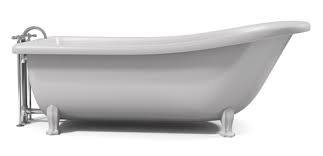bathub: (15, 18, 313, 140)
